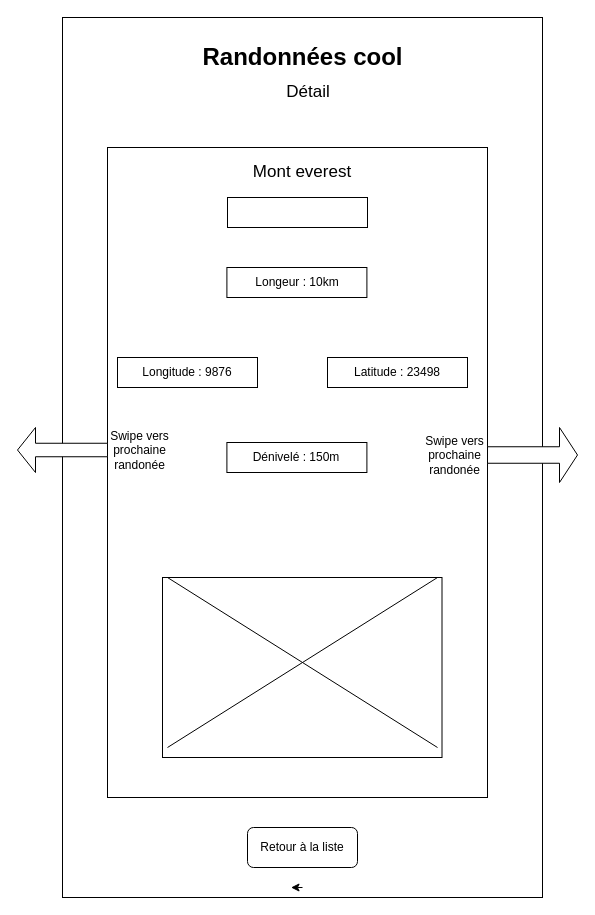
Some shapes in this 595 by 915 pixel diagram are drawn without their labels. The centre of each missing label's shape, as x and y in pixels:
"Difficulté : 1/10" belongs at (x=297, y=212).
"GOOGLE MAP" belongs at (x=302, y=662).
